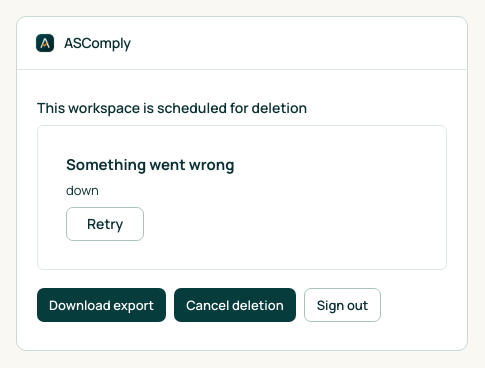
WorkspaceDeletionNotice reads › Retry after a failed read shows the retry answer
Click the button "Retry" at [105, 224], box [66, 206, 144, 240]
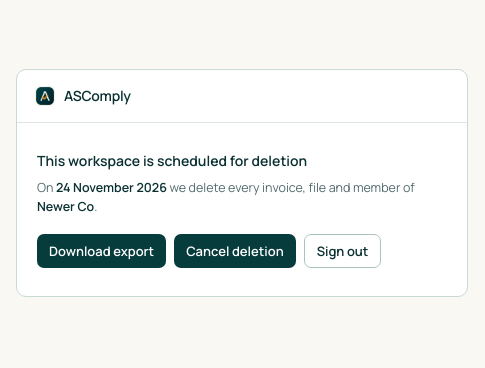
Expected: the element with test id "workspace-deletion-notice" shows "Newer Co", [37, 198, 94, 215]
